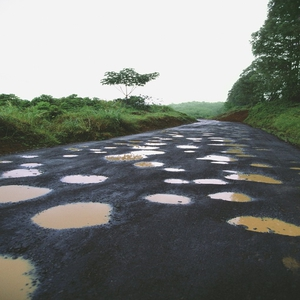pothole: (29, 200, 115, 230), (226, 212, 300, 238), (1, 182, 53, 207), (104, 149, 166, 163), (225, 172, 283, 185), (142, 191, 193, 205), (59, 171, 108, 185), (209, 190, 254, 205), (2, 167, 43, 179), (200, 153, 238, 162), (132, 159, 164, 168), (191, 178, 226, 186), (164, 177, 189, 186)
